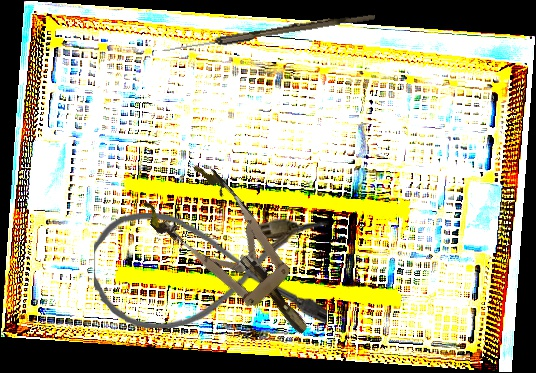Cannula: (93, 211, 329, 332)
Speculum: (137, 153, 335, 361)
Surgical Spoon: (162, 9, 376, 57)
